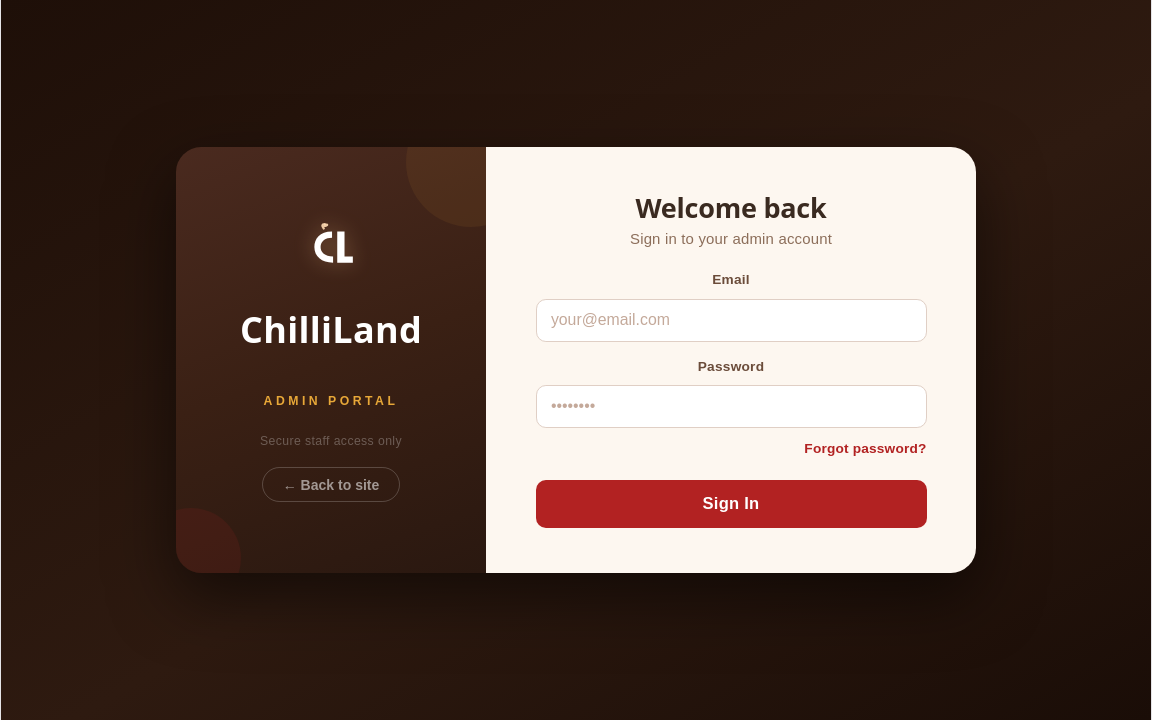
Test case: Auth — Login view › shows error for empty email on submit
Click the button "Sign In": (731,504) x1=536 y1=480 x2=926 y2=528
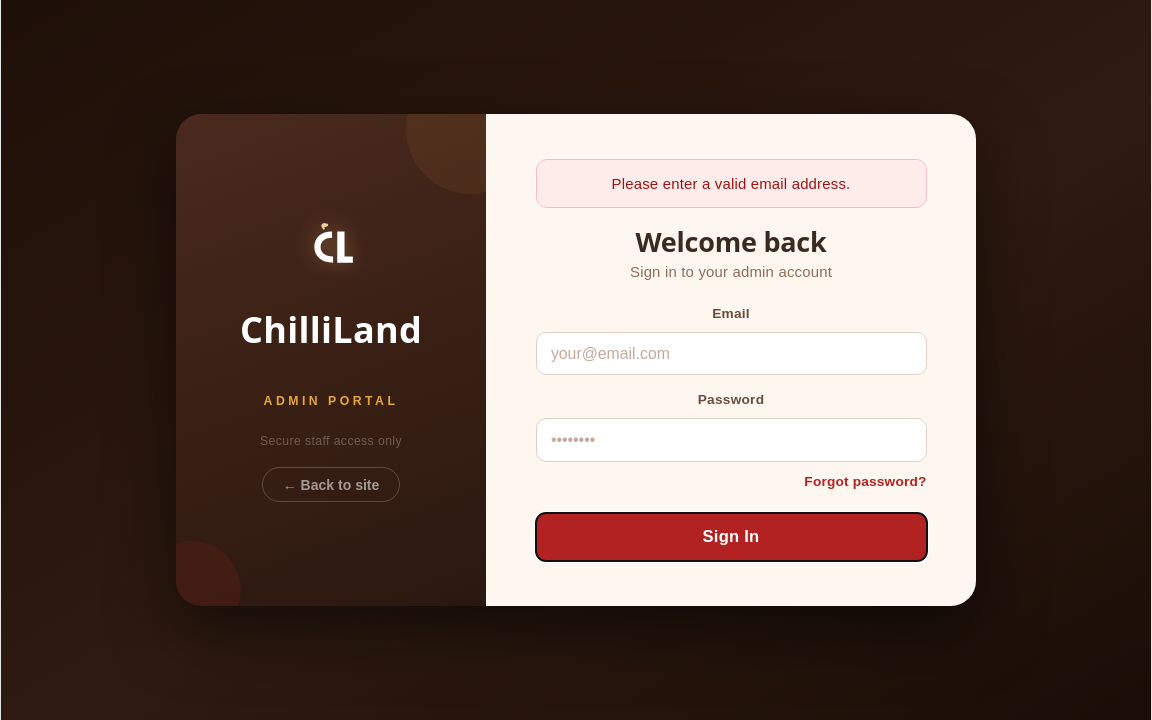
Check: the message shows "valid email", box x1=612 y1=174 x2=850 y2=192
